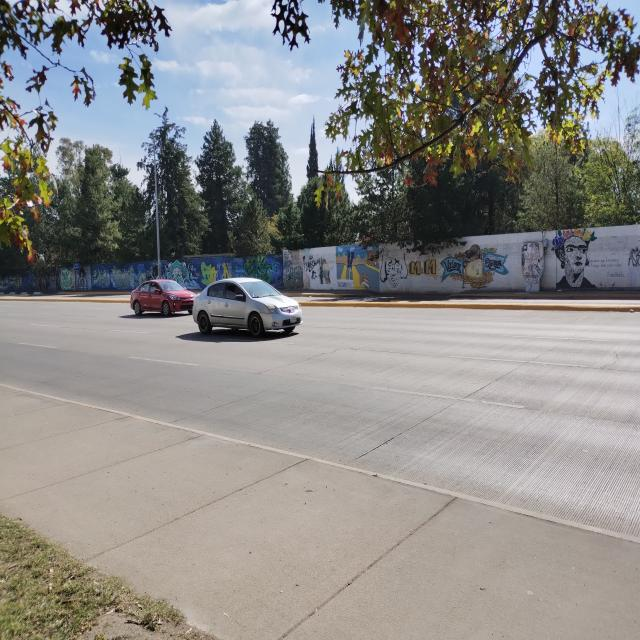Auto: (194, 276, 302, 340), (130, 278, 192, 317)
